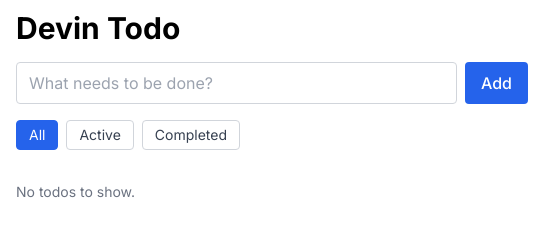
Scenario: Todo app › edits a todo inline and can cancel
Type "task" into the field named "New todo". click: (236, 83)
box: [16, 62, 457, 104]
Click the button "Add". click: (496, 83)
box: [465, 62, 528, 104]
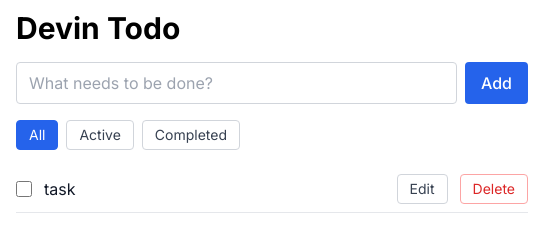
Click the button "Edit". click: (422, 189)
box: [397, 174, 448, 204]
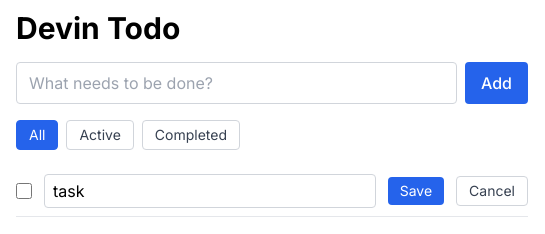
Replace the text in the field named "Edit task" with "changed". click: (210, 191)
box: [44, 174, 376, 208]
Click the button "Cancel". click: (492, 191)
box: [456, 176, 528, 206]
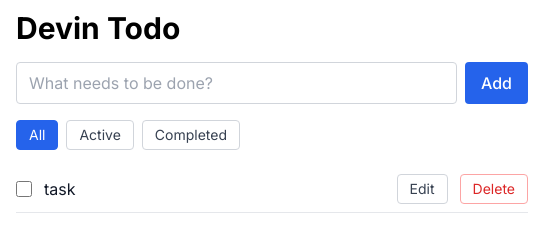
Result: the text "task" is shown at [44, 179, 76, 199]
Click the button "Edit". click: (422, 189)
box: [397, 174, 448, 204]
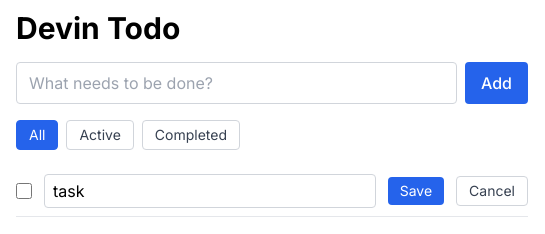
Replace the text in the field named "Edit task" with "changed". click: (210, 191)
box: [44, 174, 376, 208]
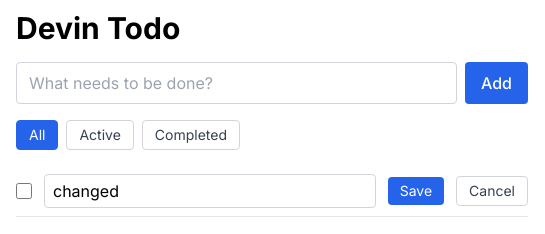
Click the button "Save". click: (416, 191)
box: [388, 177, 444, 205]
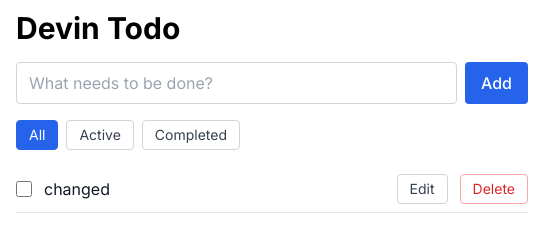
Result: the text "changed" is shown at [44, 179, 110, 199]
